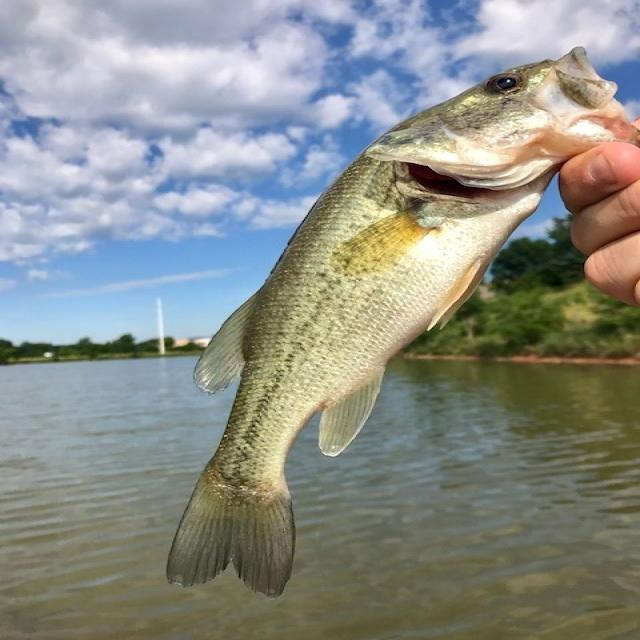Bass - Largemouth: (167, 47, 637, 595)
